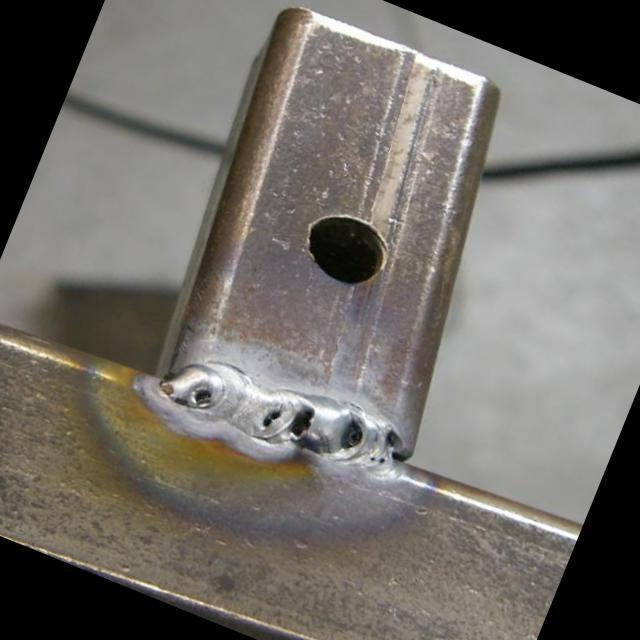defect: (288, 405, 320, 442), (336, 417, 368, 453), (257, 405, 284, 430), (190, 387, 214, 408), (380, 429, 400, 451), (366, 453, 388, 465)
